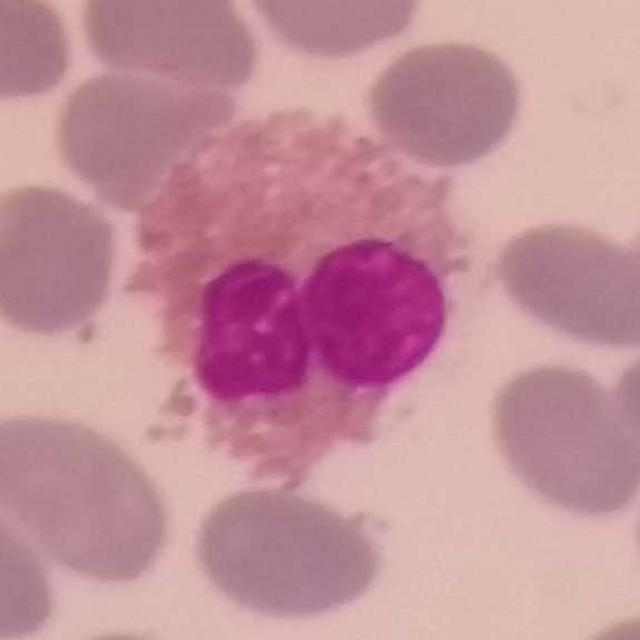Eosinophil: (124, 101, 479, 484)
RBC: (0, 404, 179, 588), (184, 479, 390, 626), (46, 58, 238, 212), (482, 354, 639, 524), (362, 34, 528, 172), (487, 210, 639, 353), (0, 175, 125, 342), (71, 0, 263, 91), (235, 0, 432, 62), (0, 486, 61, 640), (0, 0, 80, 109), (605, 316, 640, 502), (546, 603, 640, 639)
